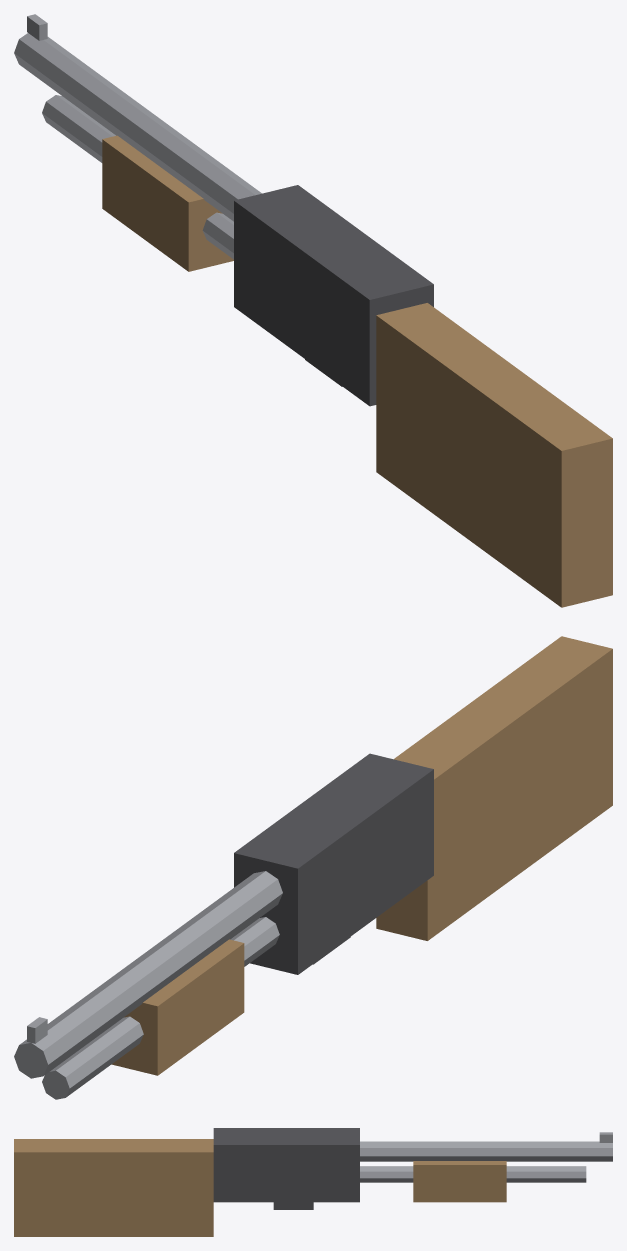
File: shotgun.glb
The picture shows the model from 3 angles, top to bottom: view 1: azimuth 30°, elevation 25°; view 2: azimuth 150°, elevation 25°; view 3: azimuth 270°, elevation 25°; orthographic projection. The views are drawn at different scales.
Visible parts, largest first — view 1: Shotgun; view 2: Shotgun; view 3: Shotgun.
Part boxes in pixels (x1,y1,x2,y2): Shotgun: [14, 14, 612, 607]; Shotgun: [14, 636, 612, 1099]; Shotgun: [14, 1128, 612, 1236].
Size of the model in its own units: 0.06 by 0.16 by 0.9.
